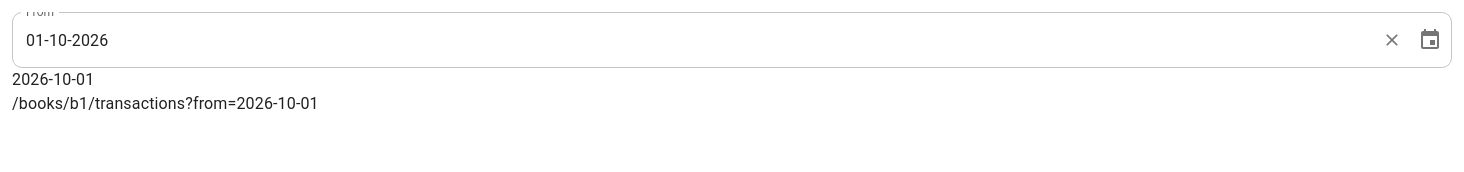
Test: DateField (waterflow#27) › keeps a date being changed while the parent drops to '' for the half-typed part
Click the number field labelled "01" at coordinates (35, 40), box [26, 30, 44, 50]
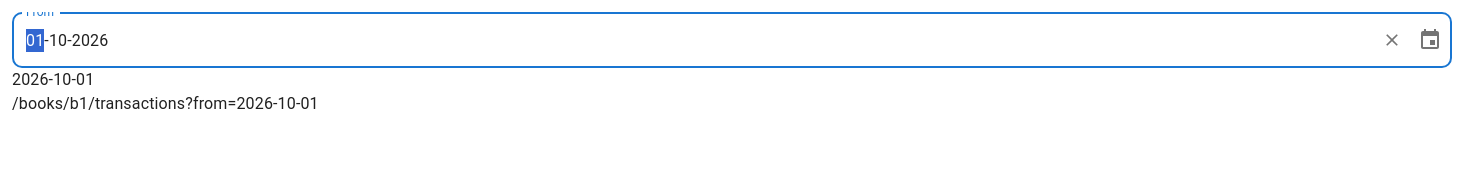
Clear the number field labelled "01" at coordinates (35, 40), box [26, 30, 44, 50]
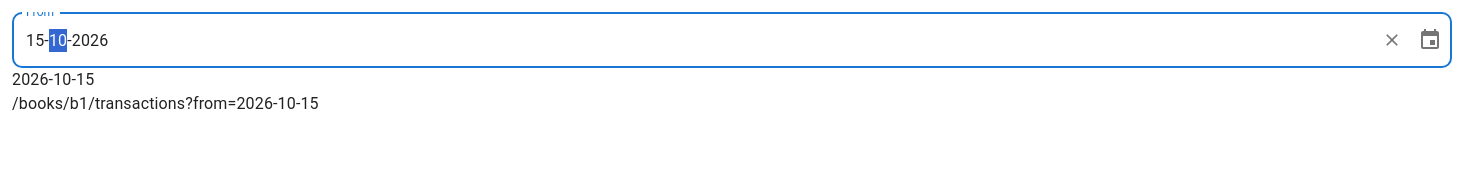
Expected: the text "2026-10-15" is shown, [12, 70, 94, 89]
Clear the number field labelled "10" at coordinates (58, 40), box [49, 30, 67, 50]
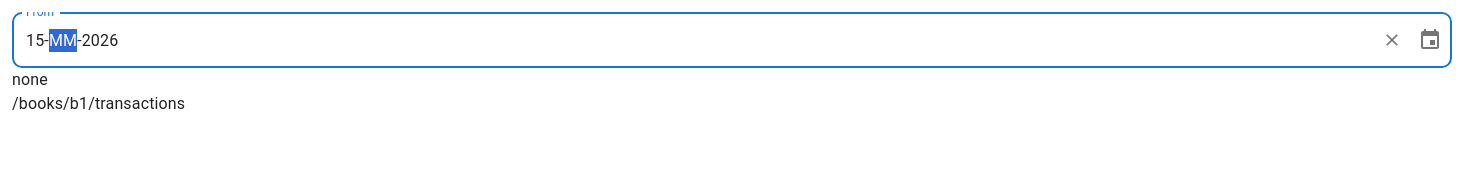
Expected: the text "none" is shown, [12, 70, 48, 89]
Clear the number field labelled "MM" at coordinates (63, 40), box [49, 30, 77, 50]
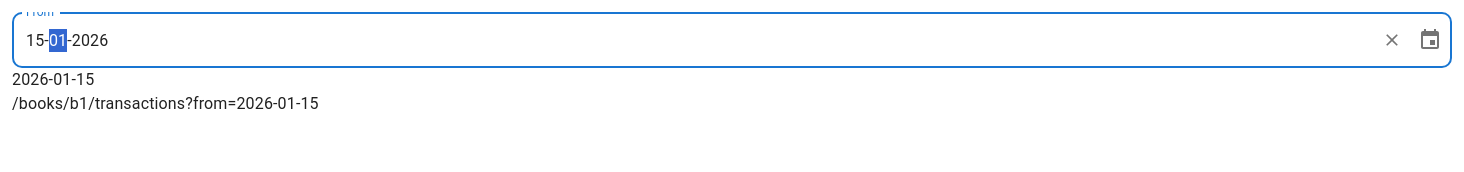
Clear the number field labelled "01" at coordinates (58, 40), box [49, 30, 67, 50]
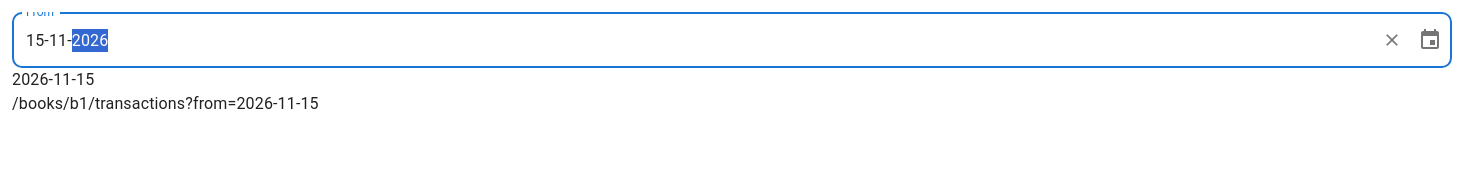
Expected: the text "2026-11-15" is shown, [12, 70, 94, 89]
